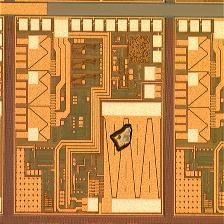PARTICLE: (110, 122, 136, 153)
